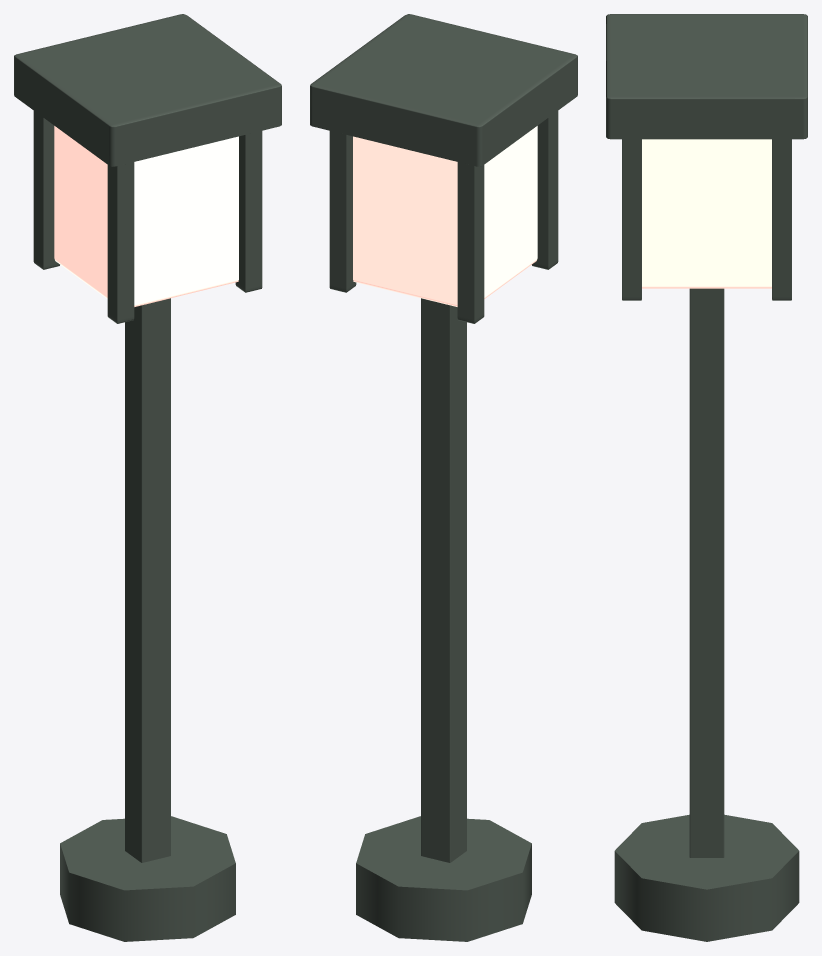
The model's file is lamp-3.glb.
The picture shows the model from 3 angles, left to right: view 1: azimuth 30°, elevation 25°; view 2: azimuth 150°, elevation 25°; view 3: azimuth 270°, elevation 25°; orthographic projection.
Parts seen in each view (by area): view 1: lamp-3-0; view 2: lamp-3-0; view 3: lamp-3-0.
Part boxes in pixels (x1,y1,x2,y2): lamp-3-0: [14, 14, 281, 941]; lamp-3-0: [310, 14, 577, 941]; lamp-3-0: [606, 14, 807, 941].
Size of the model in its own units: 0.35 by 1.62 by 0.35.
